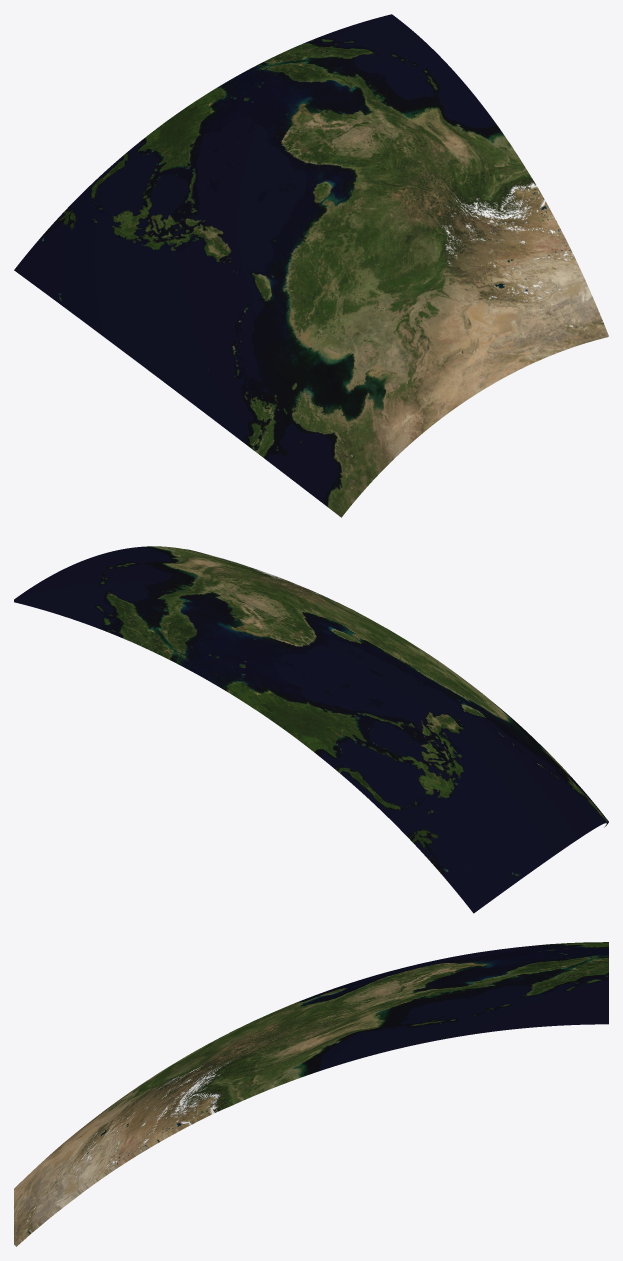
3 views of the same model, one above another, from view 1: azimuth 30°, elevation 25°; view 2: azimuth 150°, elevation 25°; view 3: azimuth 270°, elevation 25° (orthographic). The views are drawn at different scales.
Visible parts, largest first — view 1: DefaultName.009, DefaultName.006, DefaultName.012, DefaultName.003; view 2: DefaultName.006, DefaultName.003, DefaultName.009, DefaultName.012; view 3: DefaultName.003, DefaultName.012, DefaultName.006.
Part boxes in pixels (x1,y1,x2,y2): DefaultName.009: (160,228,463,517); DefaultName.006: (14,106,319,378); DefaultName.012: (320,142,608,401); DefaultName.003: (187,14,508,227); DefaultName.006: (263,651,583,913); DefaultName.003: (14,546,387,714); DefaultName.009: (388,649,608,835); DefaultName.012: (158,546,431,656); DefaultName.003: (287,943,608,1081); DefaultName.012: (14,1007,288,1246); DefaultName.006: (287,942,608,1006).
Bounding box in the file's own units: 45100 × 31959 × 44893.
4 materials, 4 textured.
